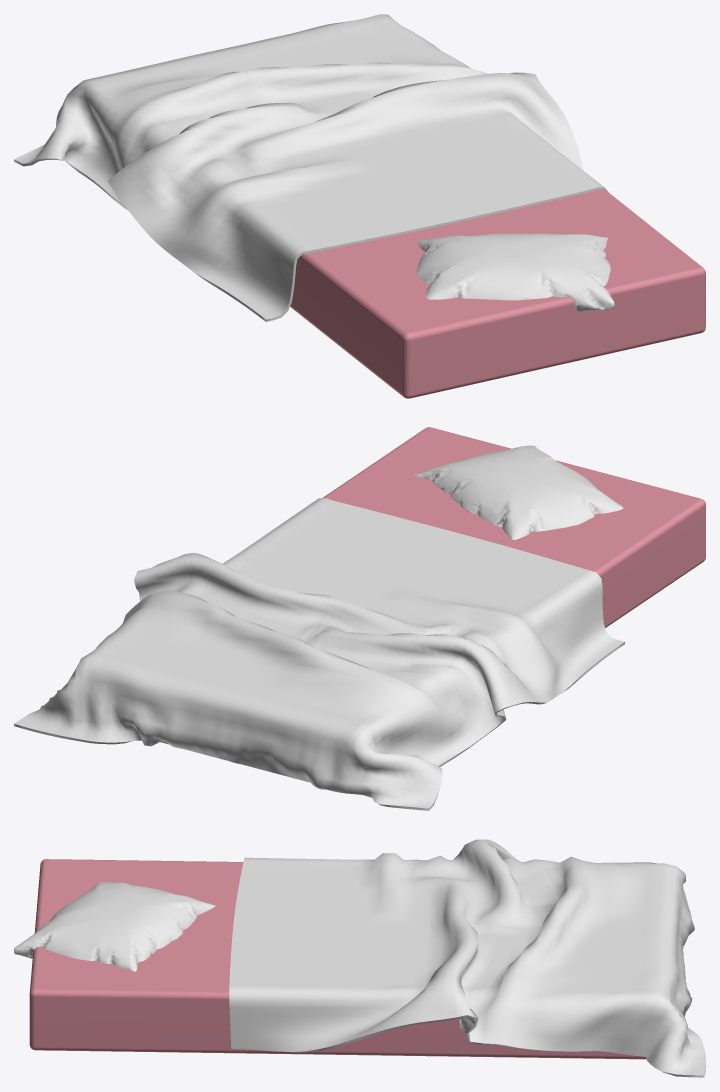
The model's file is bed2.fbx.
3 renders of one model, top to bottom at view 1: azimuth 30°, elevation 25°; view 2: azimuth 150°, elevation 25°; view 3: azimuth 270°, elevation 25°, orthographic. The views are drawn at different scales.
Visible parts, largest first — view 1: creo que este si.002; view 2: creo que este si.002; view 3: creo que este si.002.
Boxes of the visible parts, x1,y1,x2,y2 form: creo que este si.002: [14, 14, 705, 398]; creo que este si.002: [14, 427, 705, 810]; creo que este si.002: [14, 839, 705, 1077].
Size of the model in its own units: 220 by 46.86 by 345.
